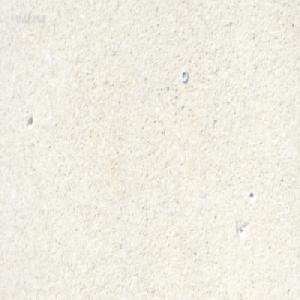Washer: (180, 69, 188, 83)
